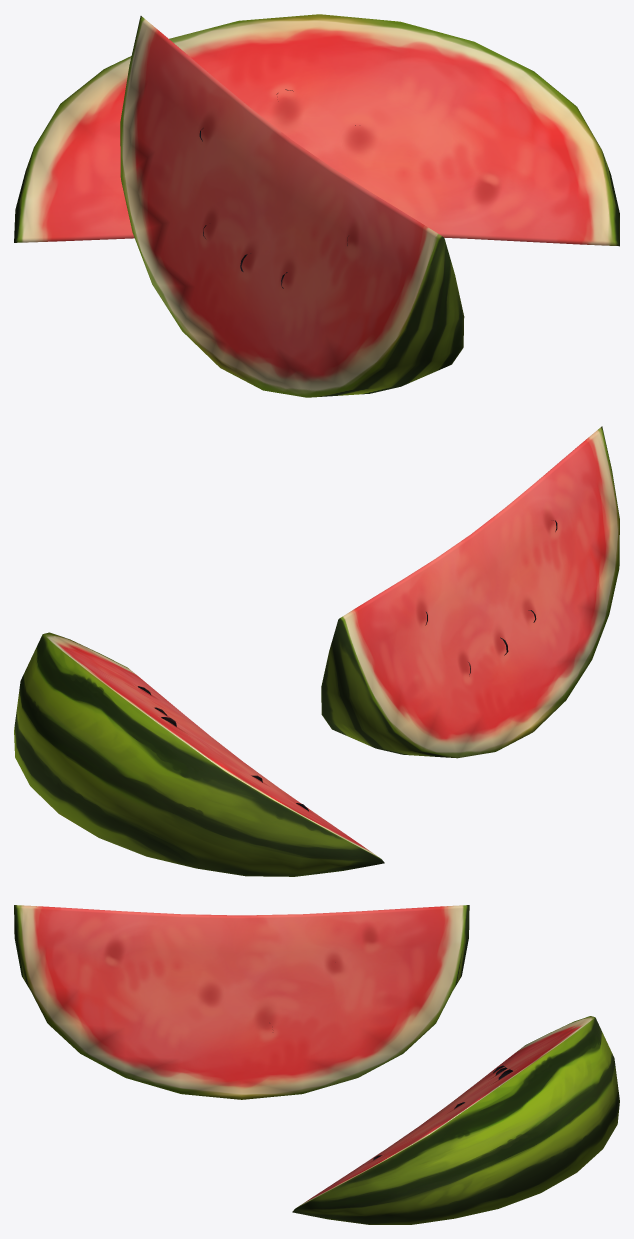
Rendered from uploads_files_5052430_watermelon+slice.fbx.
The picture shows the model from 3 angles, top to bottom: view 1: azimuth 30°, elevation 25°; view 2: azimuth 150°, elevation 25°; view 3: azimuth 270°, elevation 25°; orthographic projection. The views are drawn at different scales.
Visible parts, largest first — view 1: watermelon, watermelon.001; view 2: watermelon, watermelon.001; view 3: watermelon, watermelon.001.
Boxes of the visible parts, left/top/right/bottom form: watermelon: left=120, top=16, right=464, bottom=397; watermelon.001: left=14, top=14, right=619, bottom=246; watermelon: left=321, top=426, right=619, bottom=758; watermelon.001: left=14, top=632, right=384, bottom=876; watermelon: left=14, top=905, right=469, bottom=1099; watermelon.001: left=292, top=1016, right=619, bottom=1224.
Bounding box in the file's own units: 249 × 116 × 356.
